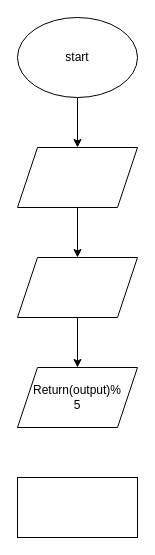
Some shapes in this 155 by 555 pixel diagram are drawn without their labels. Here are the shapes that lost their labels. From the top down, the centre of each, then its label:
the point at 77,177: input to balance 100$
the point at 77,287: yearly input:50$
